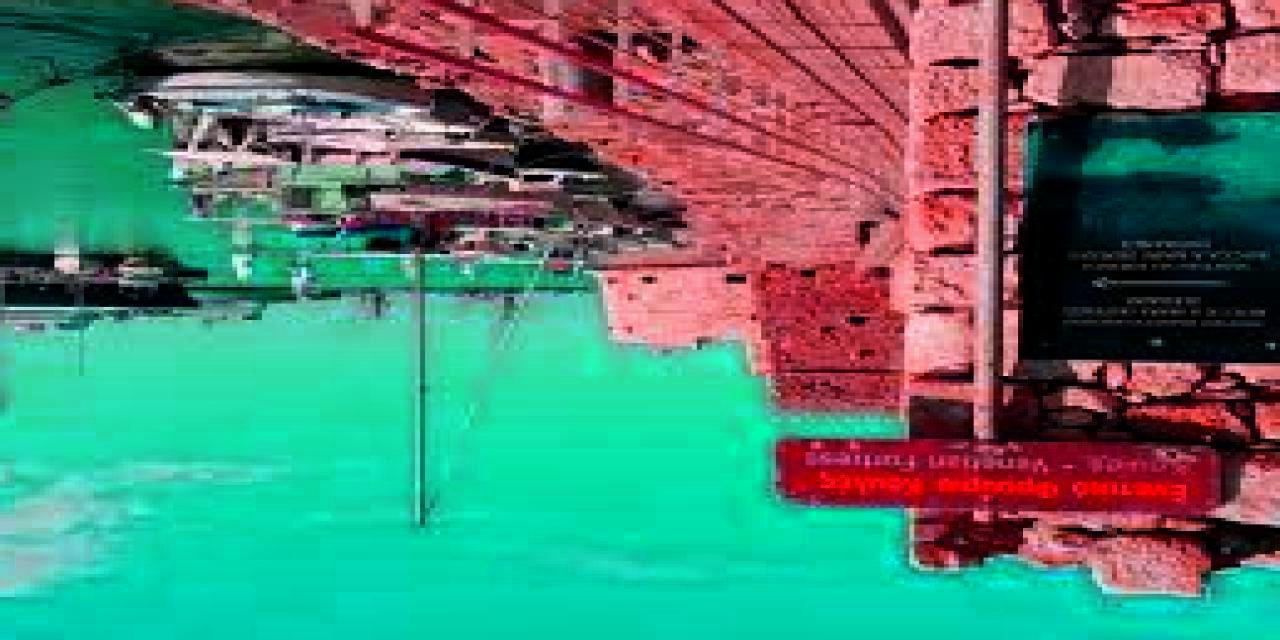Kules: (585, 264, 909, 422)
